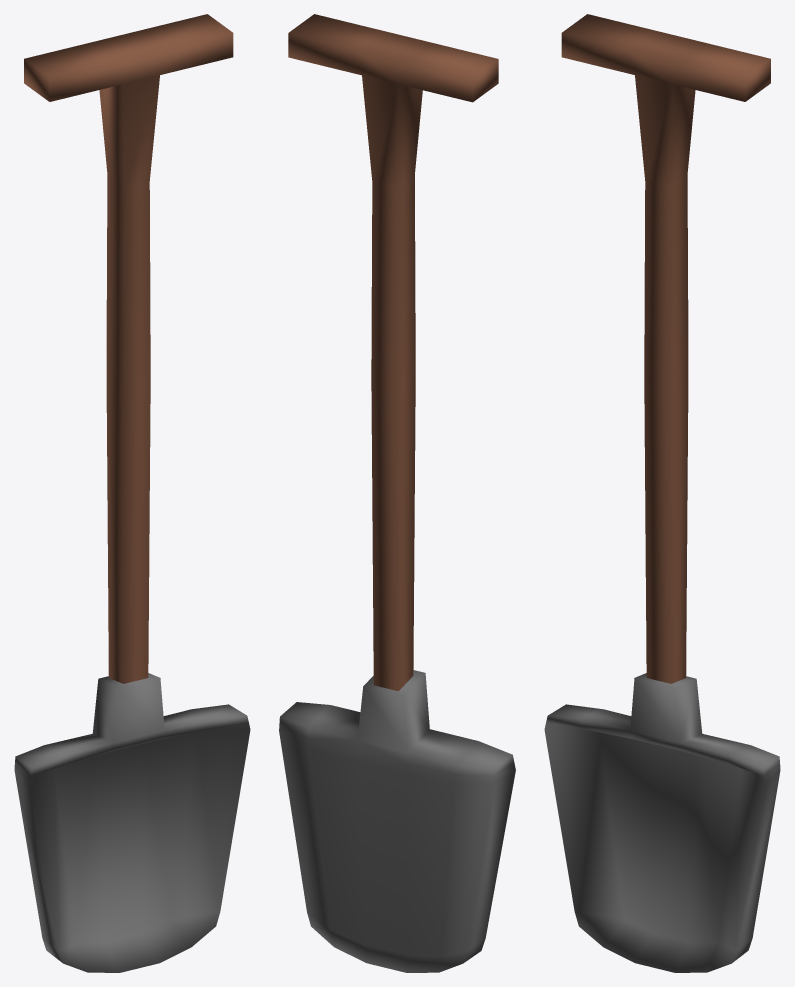
3 renders of one model, left to right at view 1: azimuth 30°, elevation 25°; view 2: azimuth 150°, elevation 25°; view 3: azimuth 330°, elevation 25°, orthographic.
Visible parts, largest first — view 1: Pa_2; view 2: Pa_2; view 3: Pa_2.
Part boxes in pixels (<box>): Pa_2: <box>14,14,250,972</box>; Pa_2: <box>279,14,515,972</box>; Pa_2: <box>544,14,780,972</box>.
Size of the model in its own units: 0.0735 by 0.3655 by 1.44.
